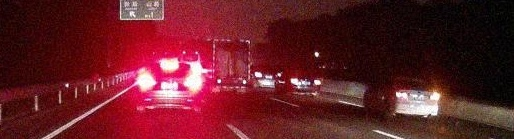L_light: (143, 79, 156, 85), (396, 92, 407, 98), (290, 79, 299, 84), (216, 80, 223, 83)
R_light: (184, 80, 197, 85), (429, 93, 438, 99), (313, 80, 321, 85), (241, 80, 248, 84)
T_light: (163, 63, 176, 67), (409, 79, 417, 82), (228, 41, 237, 43), (301, 71, 305, 72)
night-brake: (142, 59, 200, 114)
night-no: (212, 38, 250, 96), (287, 69, 321, 99)
night-right: (394, 77, 438, 122)
